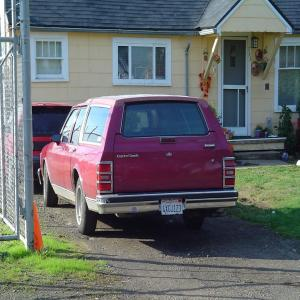Vehicle-registration-plate: (162, 202, 185, 218)
